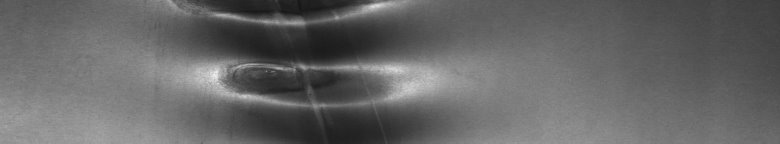ke: (169, 4, 409, 128)
